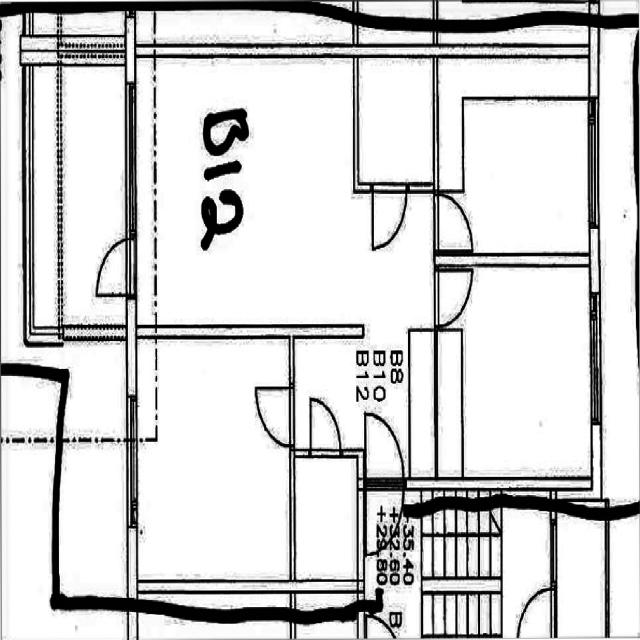door: (365, 411, 404, 478), (434, 191, 476, 253), (372, 183, 409, 251), (436, 263, 474, 328), (94, 236, 130, 298), (255, 385, 292, 445), (308, 393, 343, 456), (516, 586, 553, 638)
window: (121, 79, 141, 235), (583, 95, 604, 234), (586, 297, 606, 428), (633, 191, 640, 242)
zone: (134, 337, 292, 591), (446, 259, 595, 484), (441, 100, 596, 259), (62, 64, 128, 312), (58, 448, 128, 601), (355, 60, 436, 188), (292, 454, 361, 592), (498, 503, 553, 636), (368, 498, 420, 631), (553, 516, 607, 638), (607, 514, 640, 640), (94, 234, 129, 298)
